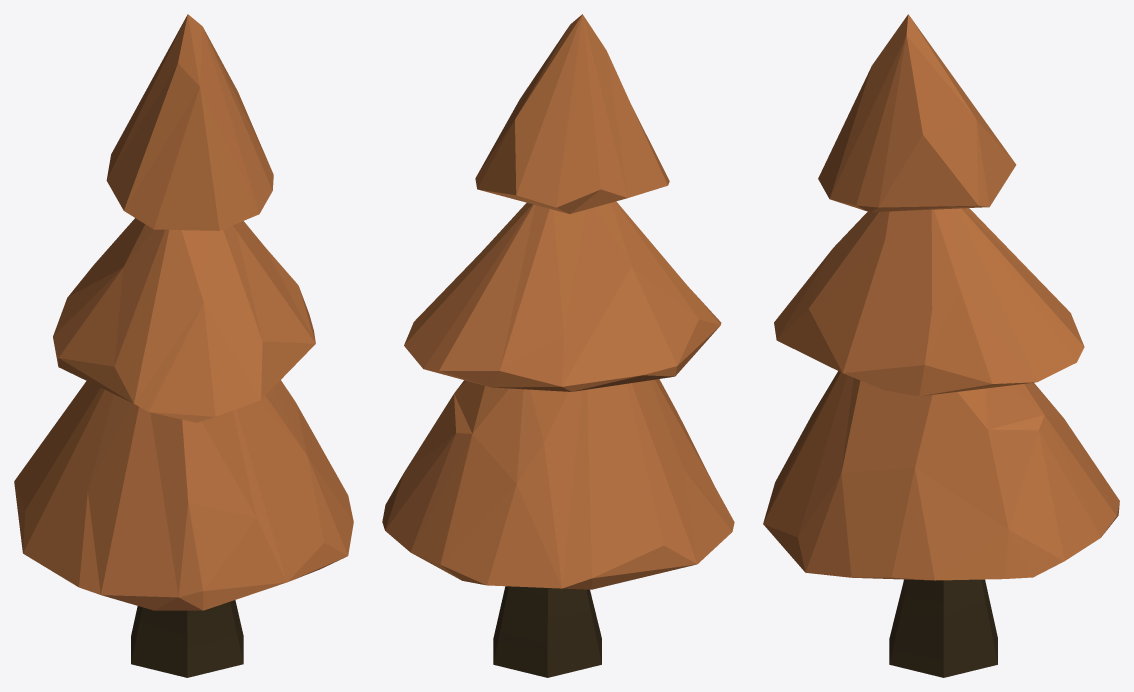
Rendered from orange pine.fbx.
3 views of the same model, side by side, from view 1: azimuth 30°, elevation 25°; view 2: azimuth 150°, elevation 25°; view 3: azimuth 270°, elevation 25° (orthographic). The views are drawn at different scales.
Parts seen in each view (by area): view 1: pasted__pCylinder1, pasted__pCylinder2; view 2: pasted__pCylinder1, pasted__pCylinder2; view 3: pasted__pCylinder1, pasted__pCylinder2.
Part boxes in pixels (x1=…): pasted__pCylinder1: x1=14, y1=14, x2=353, y2=610; pasted__pCylinder2: x1=131, y1=600, x2=243, y2=677; pasted__pCylinder1: x1=382, y1=14, x2=734, y2=589; pasted__pCylinder2: x1=493, y1=586, x2=601, y2=677; pasted__pCylinder1: x1=763, y1=14, x2=1119, y2=580; pasted__pCylinder2: x1=889, y1=579, x2=997, y2=677.
Size of the model in its own units: 1.65 by 3.4 by 1.75.
